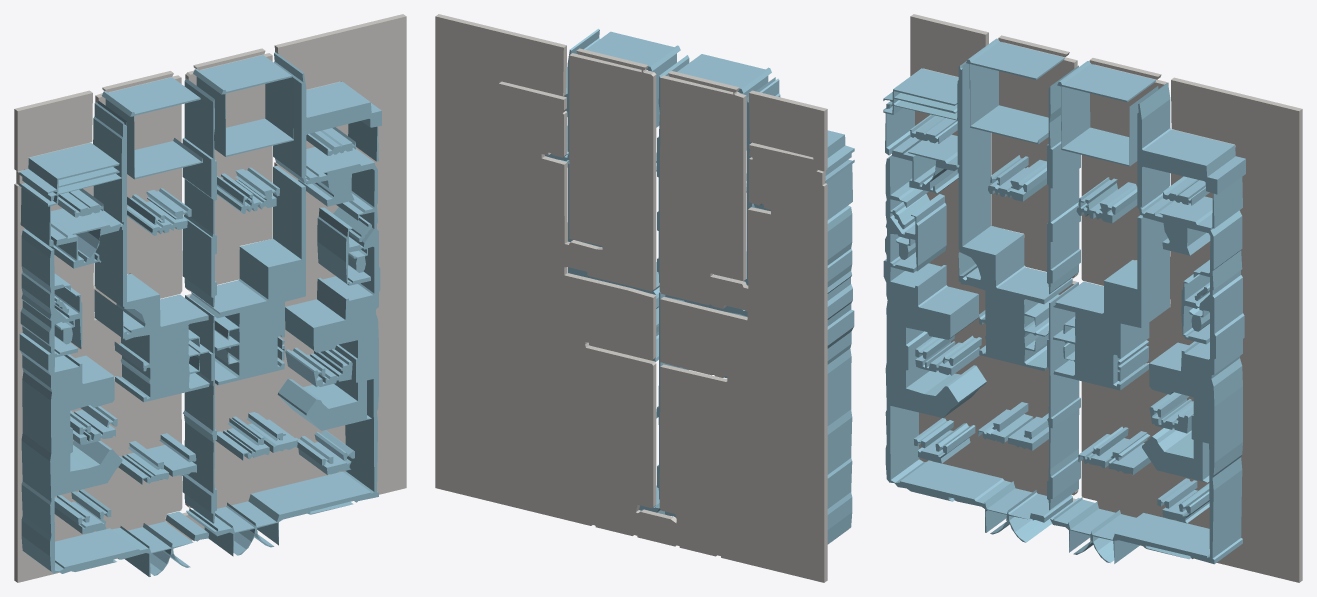
The picture shows the model from 3 angles, left to right: view 1: azimuth 30°, elevation 25°; view 2: azimuth 150°, elevation 25°; view 3: azimuth 330°, elevation 25°; orthographic projection.
Parts seen in each view (by area): view 1: world; view 2: world; view 3: world.
Part boxes in pixels (x1,y1,x2,y2): world: (14,14,406,582); world: (435,14,854,582); world: (883,14,1302,582).
Size of the model in its own units: 10.23 by 11.86 by 1.45.
